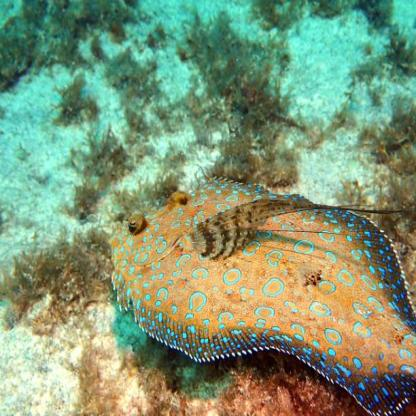flounder: (91, 167, 416, 416)
